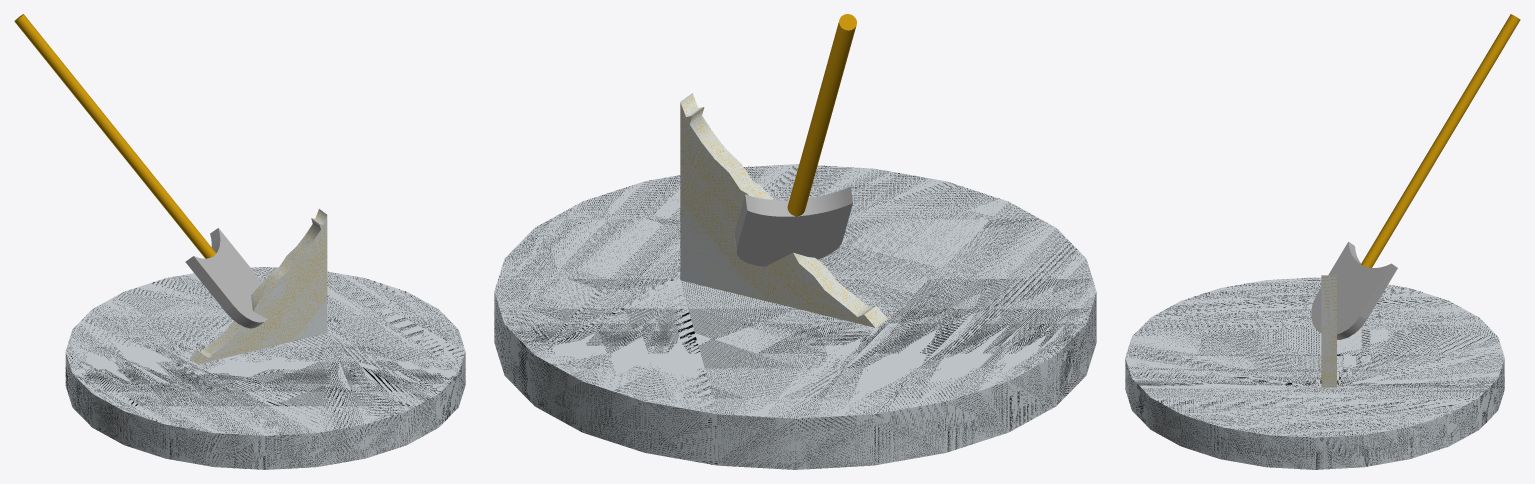
File: BottoneARchaeogical.fbx
3 views of the same model, side by side, from view 1: azimuth 30°, elevation 25°; view 2: azimuth 150°, elevation 25°; view 3: azimuth 270°, elevation 25° (orthographic). The views are drawn at different scales.
Visible parts, largest first — view 1: BottoneArchaeological; view 2: BottoneArchaeological; view 3: BottoneArchaeological.
Boxes of the visible parts, box(x1,y1,x2,y2) form: BottoneArchaeological: box(14, 14, 465, 469); BottoneArchaeological: box(494, 14, 1096, 469); BottoneArchaeological: box(1125, 14, 1520, 469).
Bounding box in the file's own units: 426 × 386 × 444.
